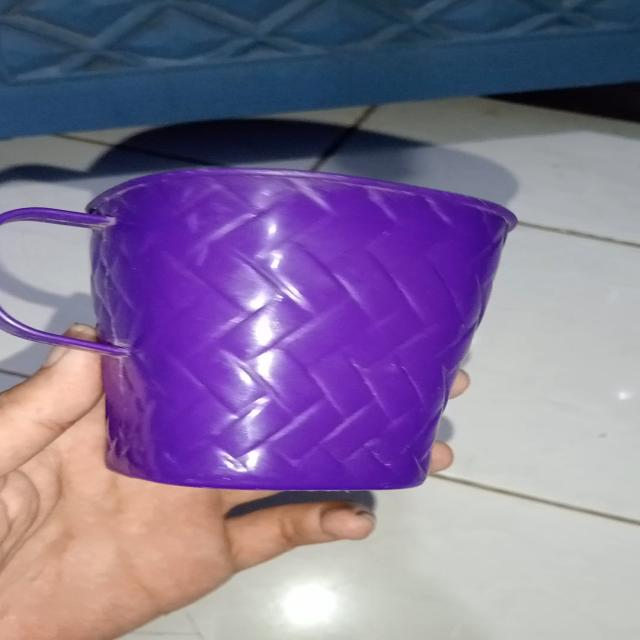gelas bekas: (2, 165, 519, 492)
